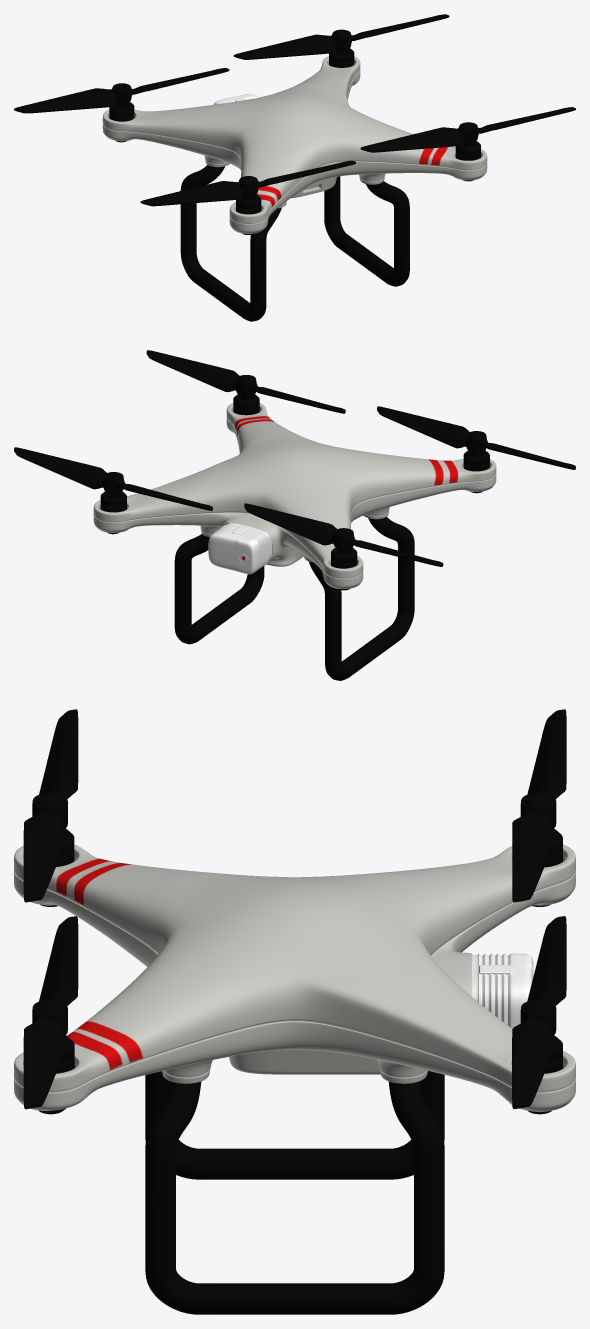
Rendered from Generic Quadcopter Drone.fbx.
3 views of the same model, one above another, from view 1: azimuth 30°, elevation 25°; view 2: azimuth 150°, elevation 25°; view 3: azimuth 270°, elevation 25° (orthographic). The views are drawn at different scales.
Visible parts, largest first — view 1: ver; view 2: ver; view 3: ver.
Part boxes in pixels (x1,y1,x2,y2): ver: (14, 14, 575, 321); ver: (14, 350, 575, 680); ver: (14, 709, 575, 1314).
Size of the model in its own units: 482 by 196 by 288.
7 materials, 1 textured.
